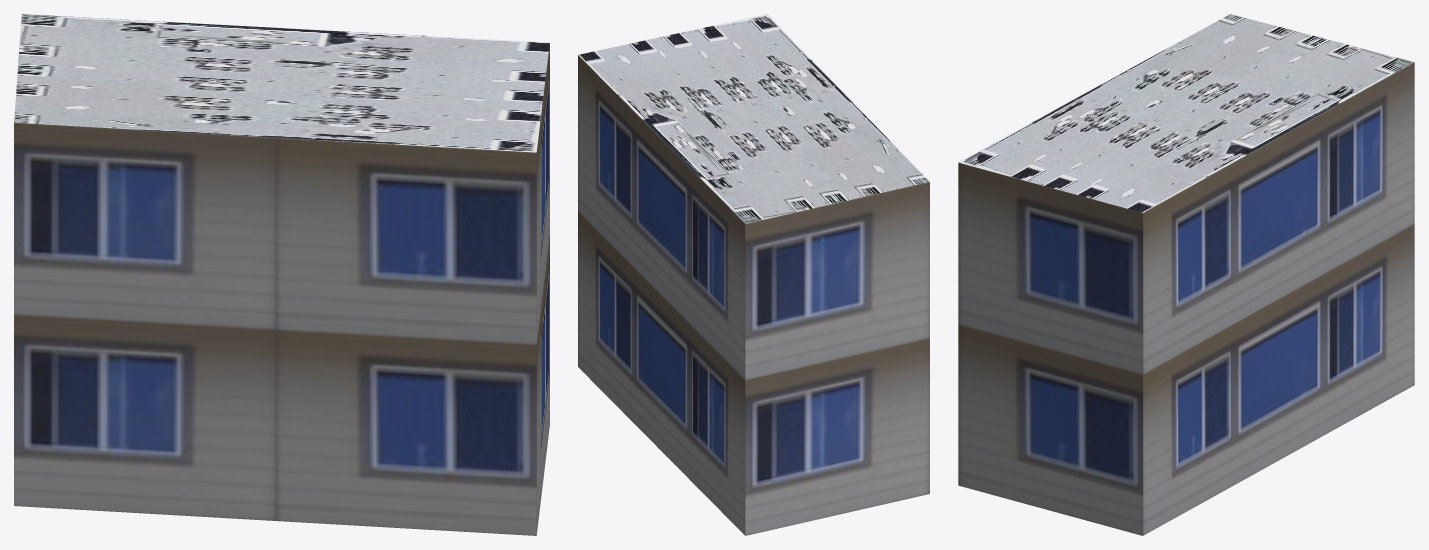
Rendered from ResTex__4973.fbx.
The picture shows the model from 3 angles, left to right: view 1: azimuth 30°, elevation 25°; view 2: azimuth 150°, elevation 25°; view 3: azimuth 270°, elevation 25°; orthographic projection. The views are drawn at different scales.
Visible parts, largest first — view 1: CityEngineMaterial_23_m, CityEngineMaterial_4_m; view 2: CityEngineMaterial_23_m, CityEngineMaterial_4_m; view 3: CityEngineMaterial_23_m, CityEngineMaterial_4_m.
Part boxes in pixels (x1,y1,x2,y2): CityEngineMaterial_23_m: (14,43,549,535); CityEngineMaterial_4_m: (14,14,549,152); CityEngineMaterial_23_m: (578,55,929,535); CityEngineMaterial_4_m: (578,14,929,223); CityEngineMaterial_23_m: (958,62,1414,535); CityEngineMaterial_4_m: (958,14,1414,212).
Size of the model in its own units: 7.93 by 6 by 7.68.
2 materials, 2 textured.
